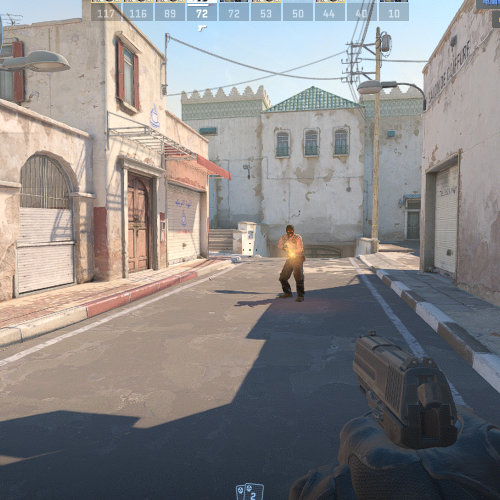t_body: (275, 222, 305, 302)
t_head: (285, 223, 296, 237)
